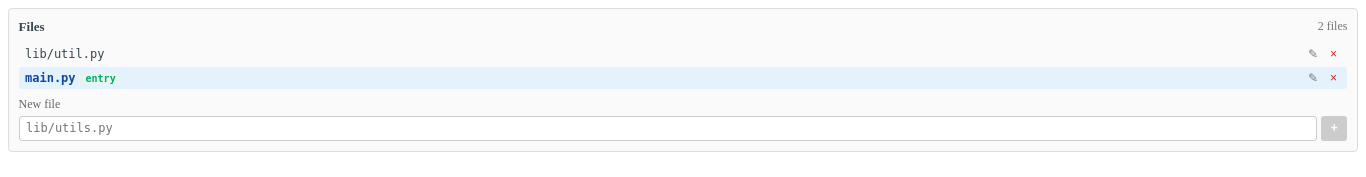
Scenario: FileTreeSidebar — interactions › Escape cancels a pending rename
Click the 2nd button with test id "file-tree-rename": {"x": 1313, "y": 78} [1304,71,1322,85]
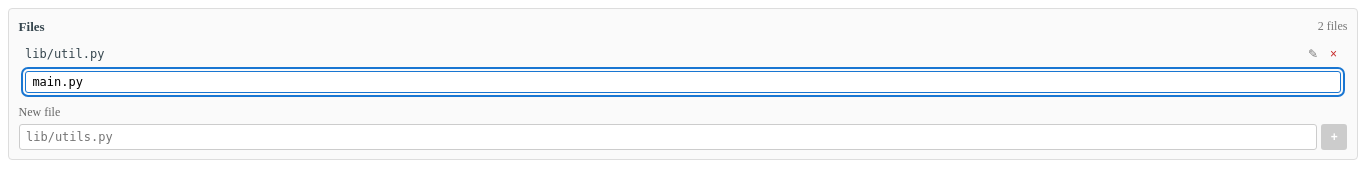
Press Escape in the field with test id "file-tree-rename-input", box [25,71,1341,93]
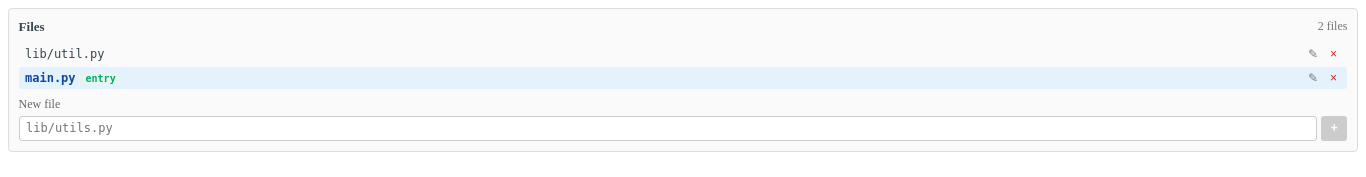
Now the field with test id "file-tree-rename-input" is gone
